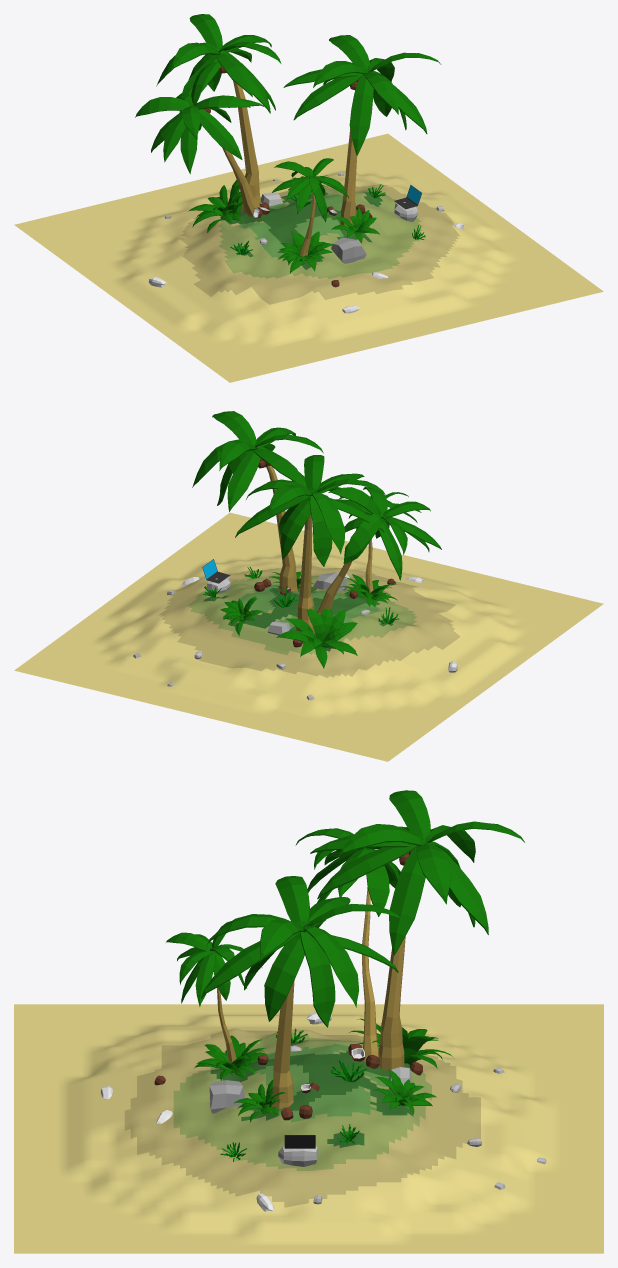
The model's file is Insel.fbx.
3 renders of one model, top to bottom at view 1: azimuth 30°, elevation 25°; view 2: azimuth 150°, elevation 25°; view 3: azimuth 270°, elevation 25°, orthographic. The views are drawn at different scales.
Visible parts, largest first — view 1: Plane, Cube.007, Cube.208, Cube.001, Cube.002, Cube.214, Cube.003, Cube.212, Cube.222, Cube.012, Cube.199, Cube.145 (+7 smaller); view 2: Plane, Cube.208, Cube.008, Cube.221, Cube.213, Cube.220, Cube.001, Cube.200, Cube.011, Cube.004, Cube.224, Cube.216 (+6 smaller); view 3: Plane, Cube.208, Cube.217, Cube.001, Cube.009, Cube.005, Cube.209, Cube.010, Cube.199, Cube.216, Cube.224, Cube.210 (+11 smaller).
Boxes of the visible parts, bbox=[...] form: Plane: bbox=[14, 133, 603, 382]; Cube.007: bbox=[349, 70, 373, 155]; Cube.208: bbox=[233, 80, 260, 213]; Cube.001: bbox=[340, 129, 357, 229]; Cube.002: bbox=[293, 68, 366, 120]; Cube.214: bbox=[199, 109, 242, 159]; Cube.003: bbox=[329, 35, 369, 70]; Cube.212: bbox=[216, 53, 252, 96]; Cube.222: bbox=[189, 14, 222, 49]; Cube.012: bbox=[364, 72, 398, 114]; Cube.199: bbox=[222, 147, 260, 216]; Cube.145: bbox=[331, 237, 366, 263]; Plane: bbox=[14, 512, 603, 761]; Cube.208: bbox=[296, 514, 314, 633]; Cube.008: bbox=[227, 450, 260, 511]; Cube.221: bbox=[311, 492, 345, 554]; Cube.213: bbox=[309, 496, 332, 566]; Cube.220: bbox=[281, 496, 310, 558]; Cube.001: bbox=[266, 465, 297, 591]; Cube.200: bbox=[344, 513, 384, 559]; Cube.011: bbox=[212, 411, 256, 445]; Cube.004: bbox=[253, 448, 303, 485]; Cube.224: bbox=[304, 455, 324, 492]; Cube.216: bbox=[235, 495, 309, 537]; Plane: bbox=[14, 1004, 603, 1253]; Cube.208: bbox=[378, 936, 405, 1070]; Cube.217: bbox=[389, 840, 426, 955]; Cube.001: bbox=[271, 980, 294, 1109]; Cube.009: bbox=[264, 931, 306, 1021]; Cube.005: bbox=[300, 931, 335, 1027]; Cube.209: bbox=[317, 838, 422, 899]; Cube.010: bbox=[302, 926, 358, 1007]; Cube.199: bbox=[362, 887, 378, 1061]; Cube.216: bbox=[425, 841, 488, 934]; Cube.224: bbox=[337, 824, 425, 857]; Cube.210: bbox=[389, 790, 430, 840].
Size of the model in its own units: 2000 by 1051 by 2000.
